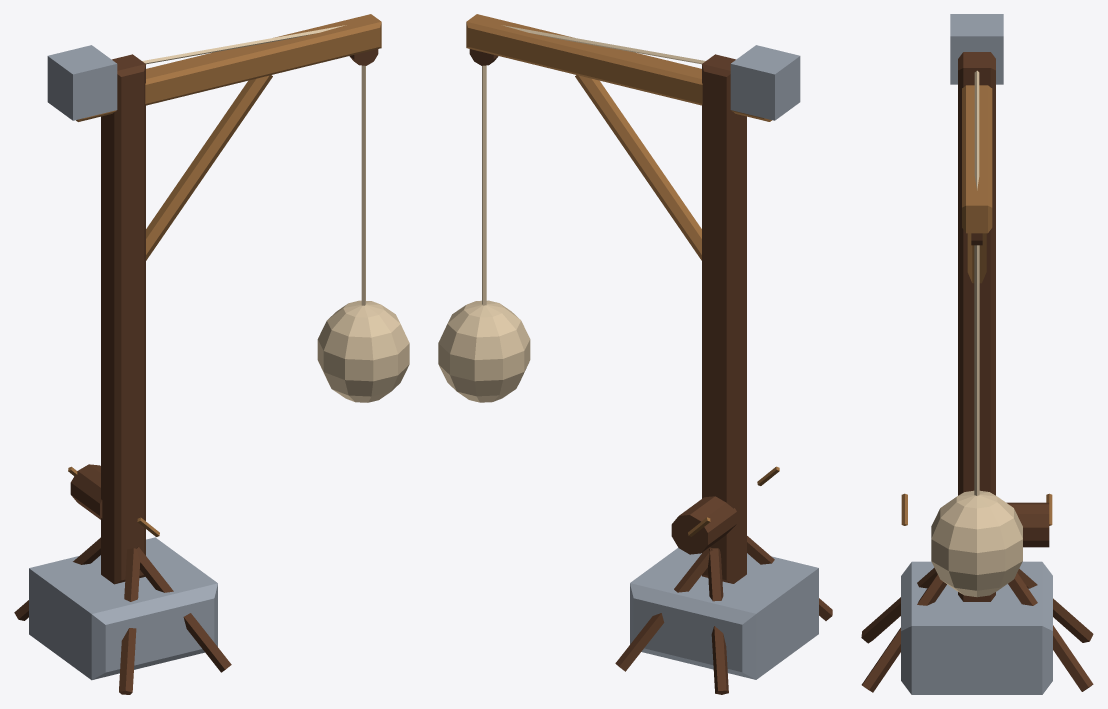
The model's file is HARBOR_CRANE.glb.
3 renders of one model, left to right at view 1: azimuth 30°, elevation 25°; view 2: azimuth 150°, elevation 25°; view 3: azimuth 270°, elevation 25°, orthographic. The views are drawn at different scales.
Visible parts, largest first — view 1: WoodDark, Stone, Wood, PropTan; view 2: WoodDark, Stone, Wood, PropTan; view 3: Stone, WoodDark, PropTan, Wood.
Boxes of the visible parts, bbox=[...] form: WoodDark: bbox=[14, 49, 378, 694]; Stone: bbox=[29, 45, 217, 680]; Wood: bbox=[68, 14, 381, 536]; PropTan: bbox=[142, 25, 409, 402]; WoodDark: bbox=[469, 49, 832, 694]; Stone: bbox=[630, 45, 818, 679]; Wood: bbox=[466, 14, 779, 536]; PropTan: bbox=[438, 25, 705, 402]; Stone: bbox=[901, 14, 1052, 694]; WoodDark: bbox=[861, 52, 1093, 692]; PropTan: bbox=[931, 70, 1022, 597]; Wood: bbox=[901, 85, 1052, 525].
Size of the model in its own units: 10.87 by 18.04 by 6.11.
